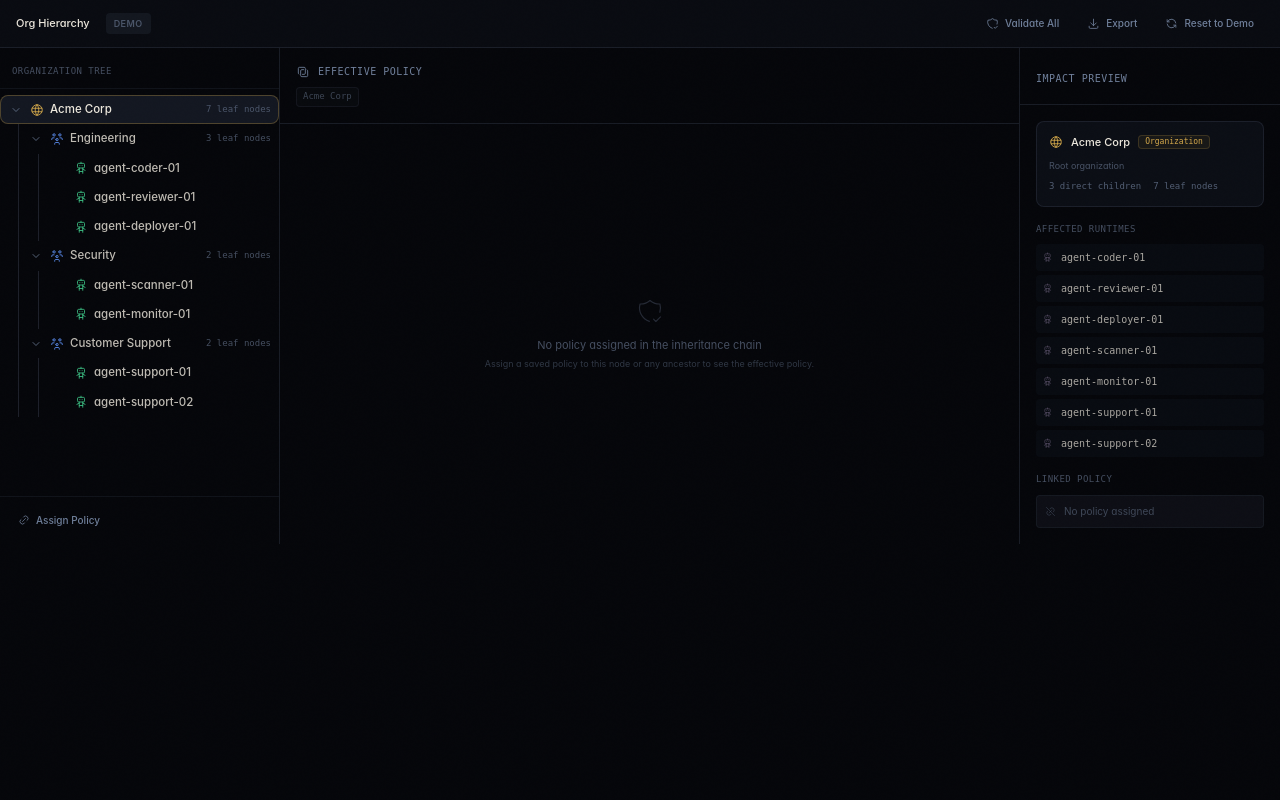
it: HierarchyPage › keeps the local draft when the live hierarchy is empty
Click the button "DEMO". click: x=128, y=24
box: [106,13,151,34]
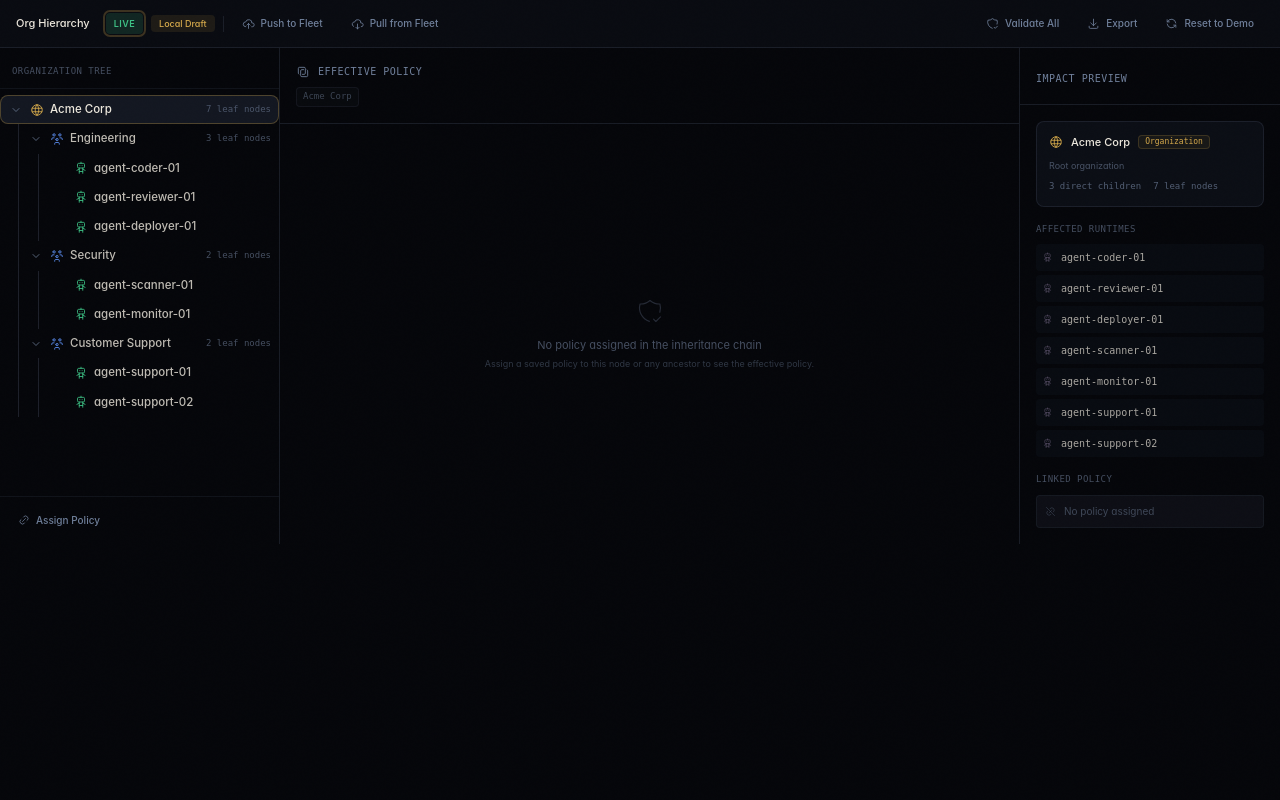
Result: the text "Local Draft" is shown at [151,15,215,32]
Click the button "Pull from Fleet". click: x=394, y=24
box: [341,10,448,37]
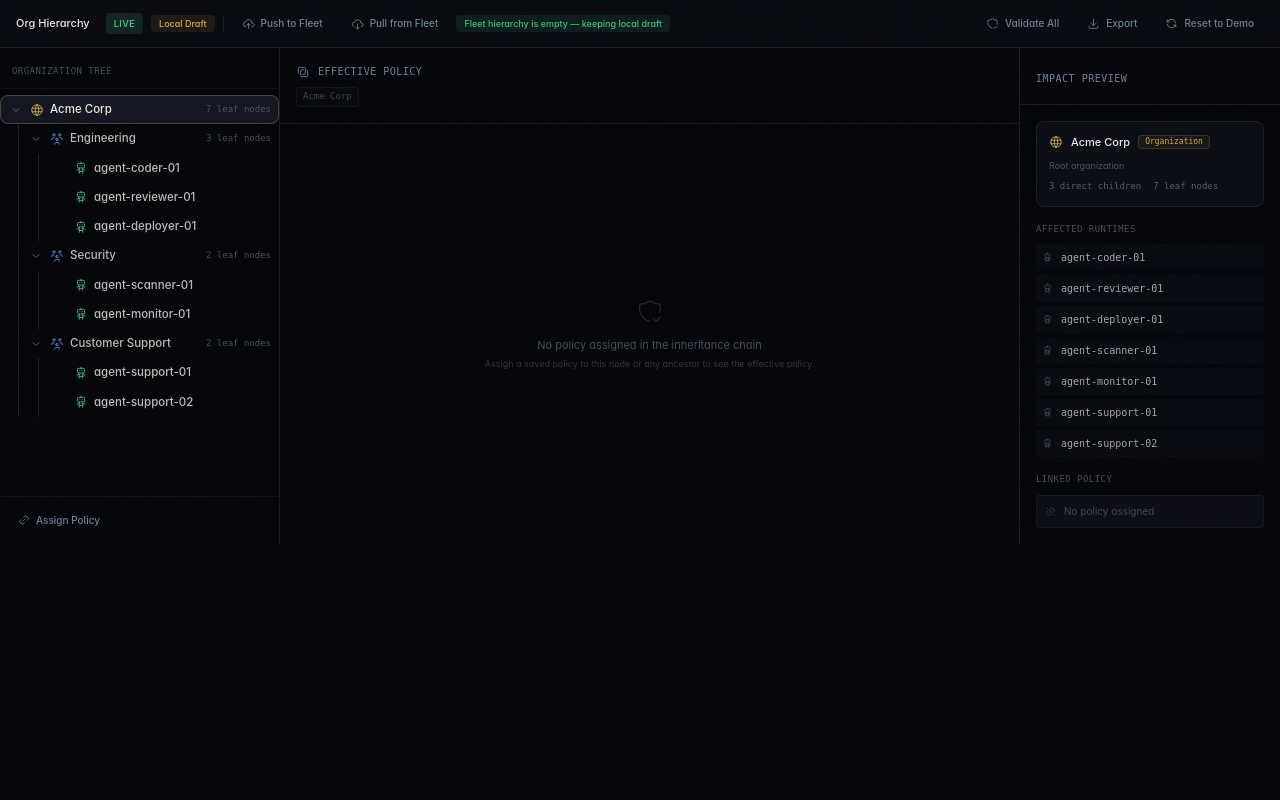
Result: the text "Local Draft" is shown at [151,15,215,32]
Result: the text "Fleet hierarchy is empty — keeping local draft" is shown at [456,15,670,32]
